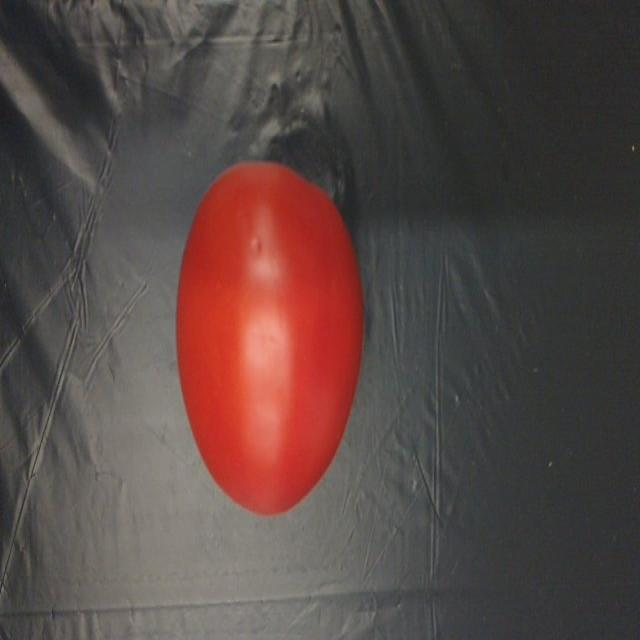kirmizi: (160, 135, 369, 518)
